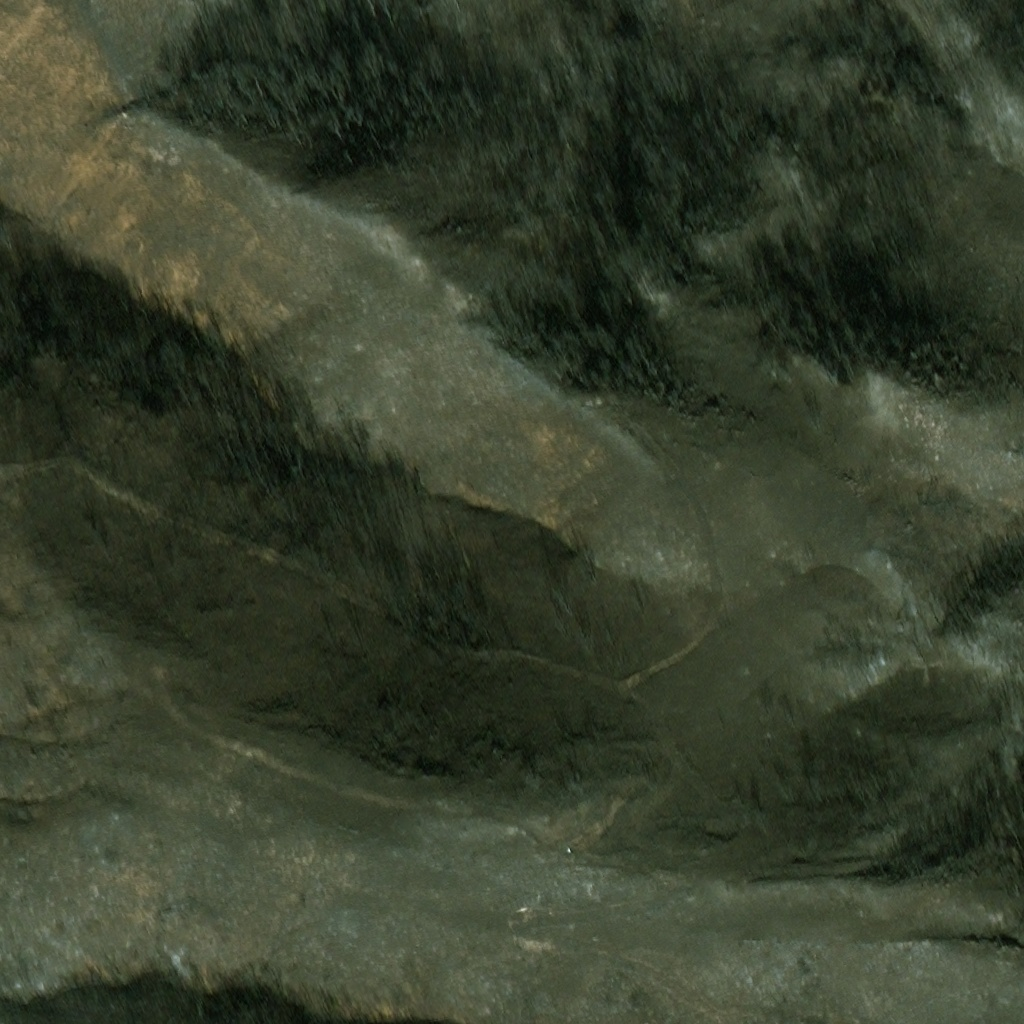4 un-classified: (557, 840, 572, 853)
